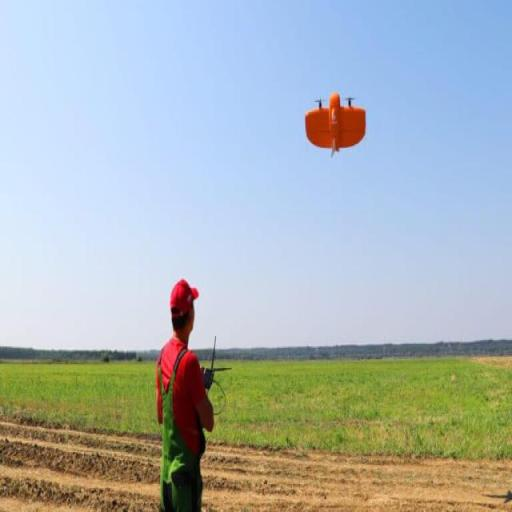uav: (301, 85, 369, 167)
